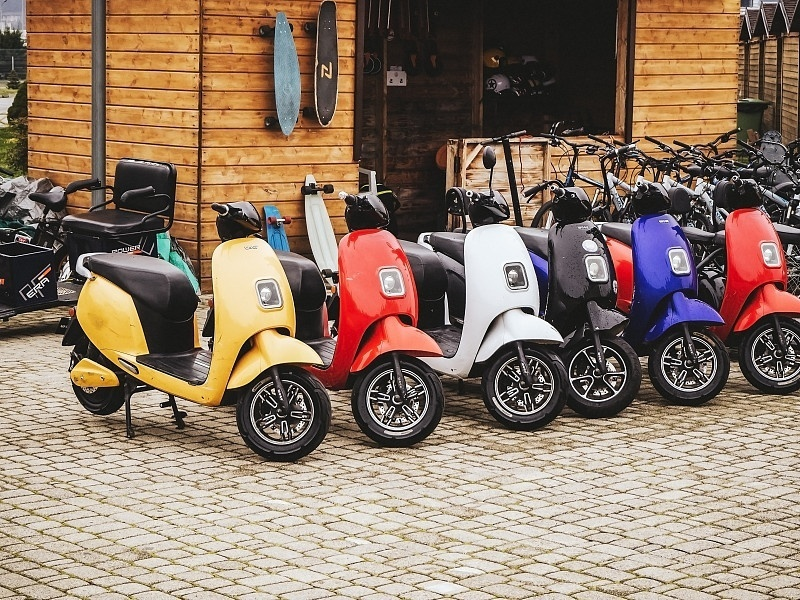non-vehicle: (71, 210, 312, 455), (318, 171, 428, 446), (433, 183, 553, 428), (611, 175, 720, 403), (527, 175, 629, 409), (699, 160, 798, 391)
